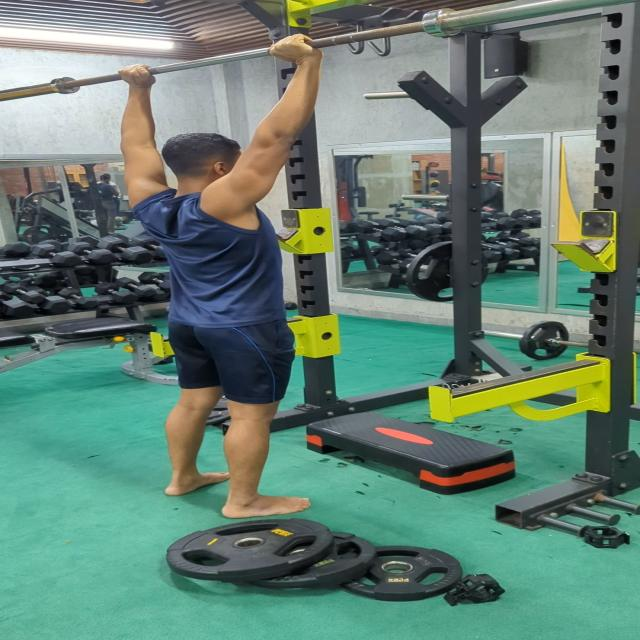Normal_OverheadPress: (112, 35, 344, 525)
